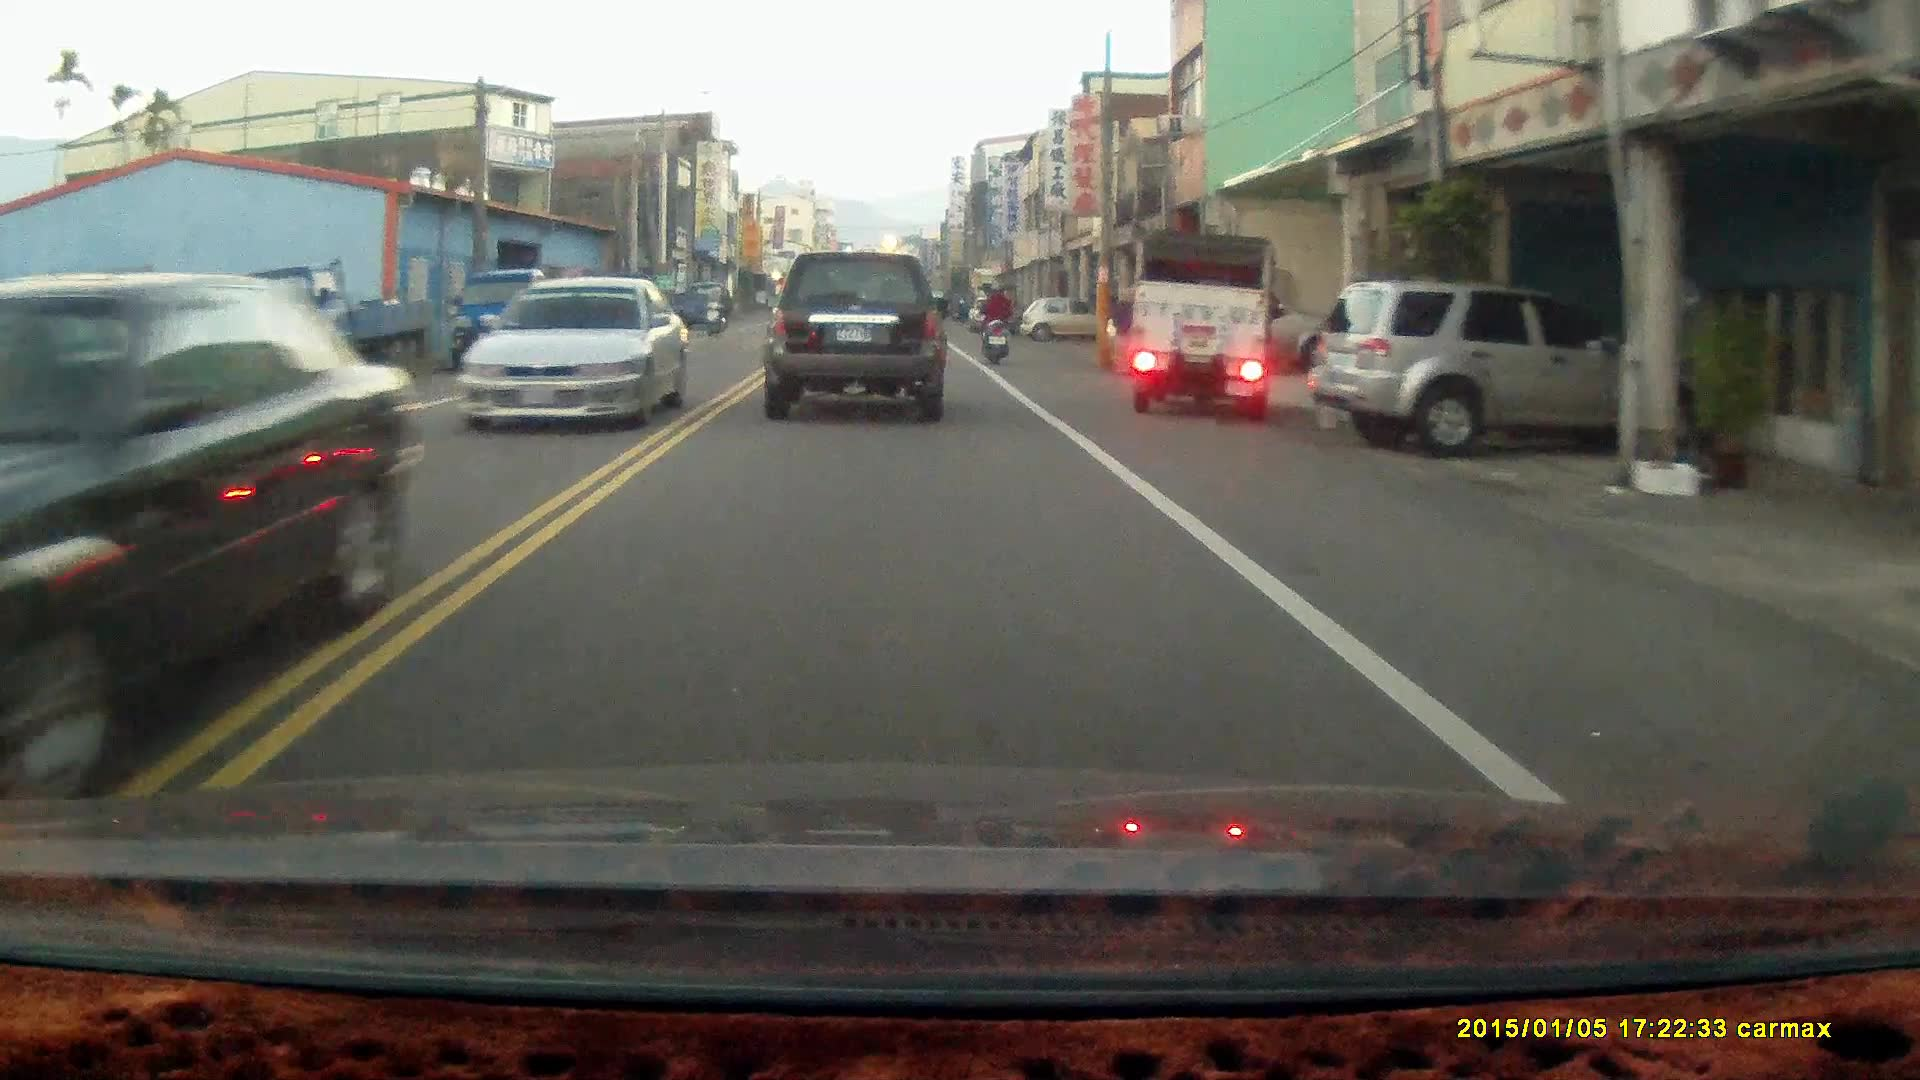pedestrian: (1109, 286, 1140, 376)
rider: (977, 282, 1013, 368), (702, 281, 730, 339)
vehicle: (1, 271, 429, 791), (1318, 279, 1633, 456), (462, 275, 685, 433), (211, 261, 440, 407), (766, 253, 950, 426), (1131, 231, 1279, 417), (1023, 295, 1096, 349)
